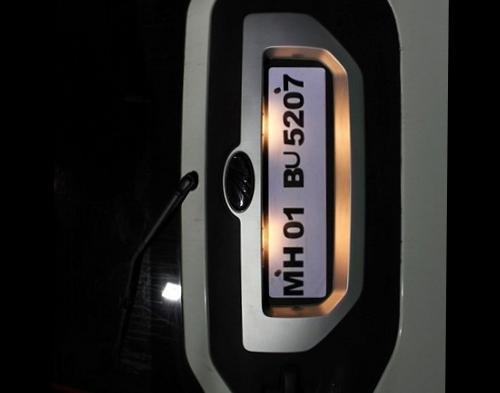plate: (259, 44, 328, 303)
